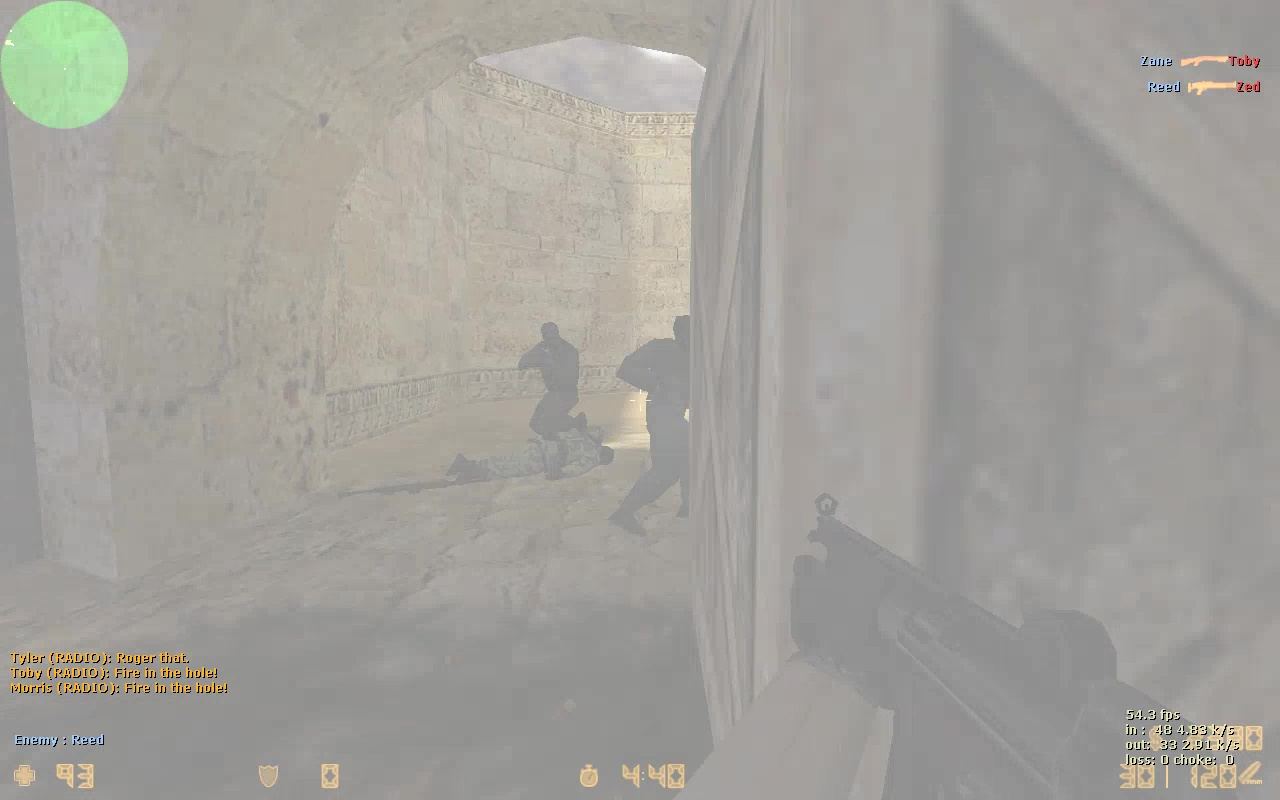ct: (621, 313, 691, 532), (521, 321, 588, 440)
dead: (446, 429, 613, 476)
